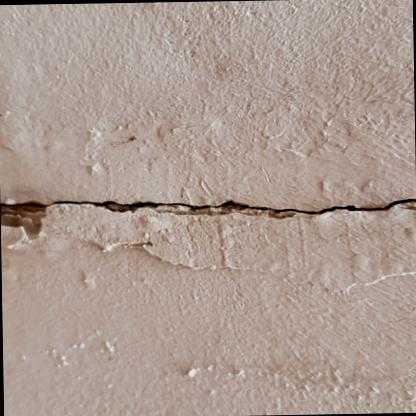crack: (0, 197, 416, 213)
